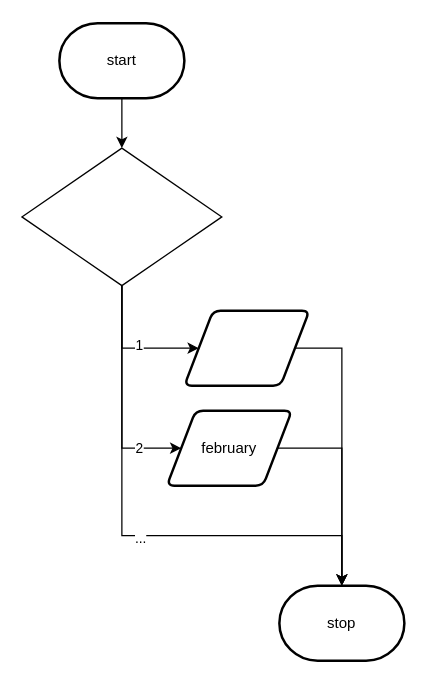
The diagram is 428 pixels wide and 683 high, and some of its shapes have lost their labels. The shapes that lost their labels are listed below. From the top down, each one's box as (x1, y1, x2, y2) in pixels, then its label:
(21, 147, 222, 286): if number = month
(182, 309, 310, 386): January
